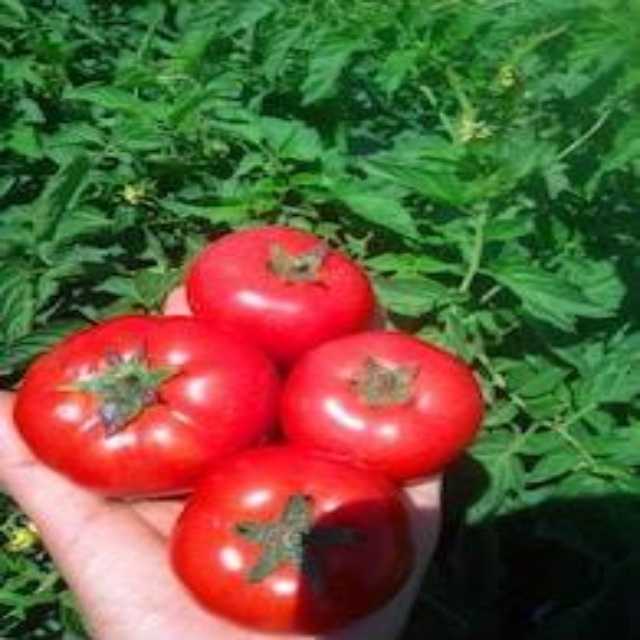tomato: (23, 313, 280, 499), (168, 456, 423, 620), (289, 335, 487, 472), (175, 228, 380, 354)
